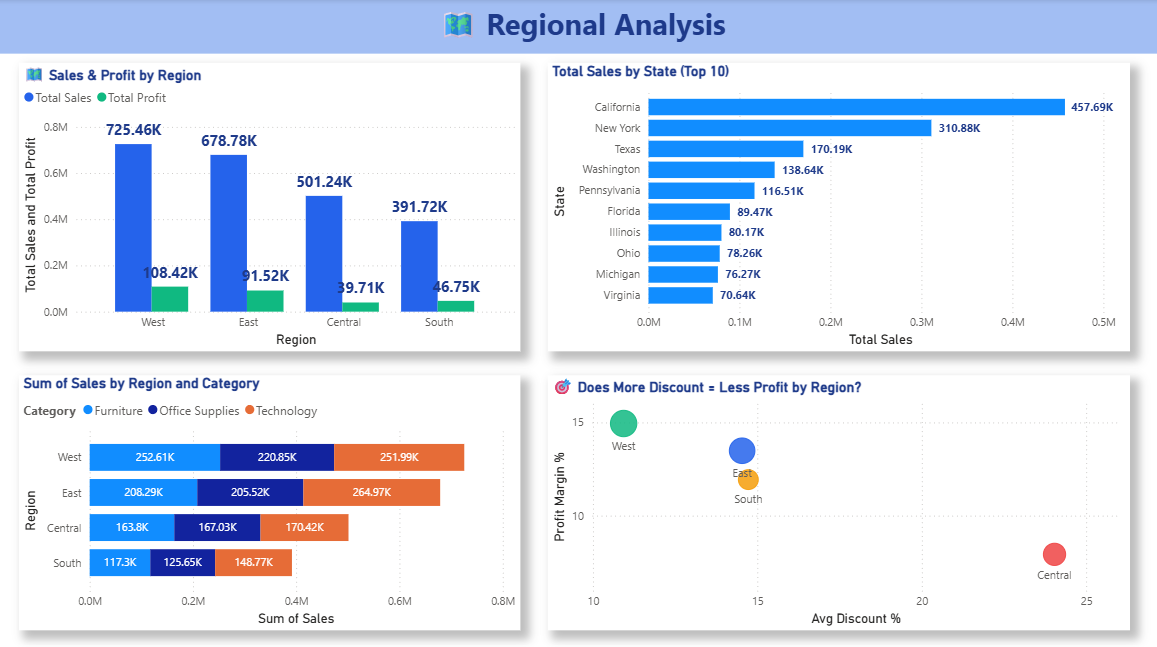

What the dashboard file says about the page in this screenshot:
{"tool":"powerbi","page":{"name":"Regional Analysis","canvas":[1280,720],"ordinal":2},"visuals":[{"type":"clusteredColumnChart","title":"🗺️ Sales & Profit by Region","fields":{"Category":["superstore_clean.Region"],"Y":["superstore_clean.Total Sales","superstore_clean.Total Profit"]},"box":[22,70,550.3,317],"z":0},{"type":"clusteredBarChart","title":"Total Sales by State (Top 10)","fields":{"Category":["superstore_clean.State"],"Y":["superstore_clean.Total Sales"]},"box":[602.4,70,639.5,317],"z":1000},{"type":"barChart","fields":{"Category":["superstore_clean.Region"],"Series":["superstore_clean.Category"],"Y":["Sum(superstore_clean.Sales)"]},"box":[22,413,550.3,279.9],"z":1001},{"type":"scatterChart","title":"🎯 Does More Discount = Less Profit by Region?","fields":{"X":["superstore_clean.Avg Discount %"],"Y":["superstore_clean.Profit Margin %"],"Category":["superstore_clean.Region"],"Size":["superstore_clean.Total Sales"]},"box":[602.4,413,639.5,279.9],"z":1002},{"type":"textbox","box":[0,0,1280.3,60.4],"z":1003}]}

Visuals, with their boxes in screenshot pixels (x1, y1, x2, y2), scaled from the page's 1280x720 canvas onto the 1157x647 screenshot:
"🗺️ Sales & Profit by Region" clusteredColumnChart: region(20, 63, 517, 348)
"Total Sales by State (Top 10)" clusteredBarChart: region(545, 63, 1123, 348)
barChart - superstore_clean.Region x superstore_clean.Category: region(20, 371, 517, 623)
"🎯 Does More Discount = Less Profit by Region?" scatterChart: region(545, 371, 1123, 623)
textbox: region(0, 0, 1156, 54)
